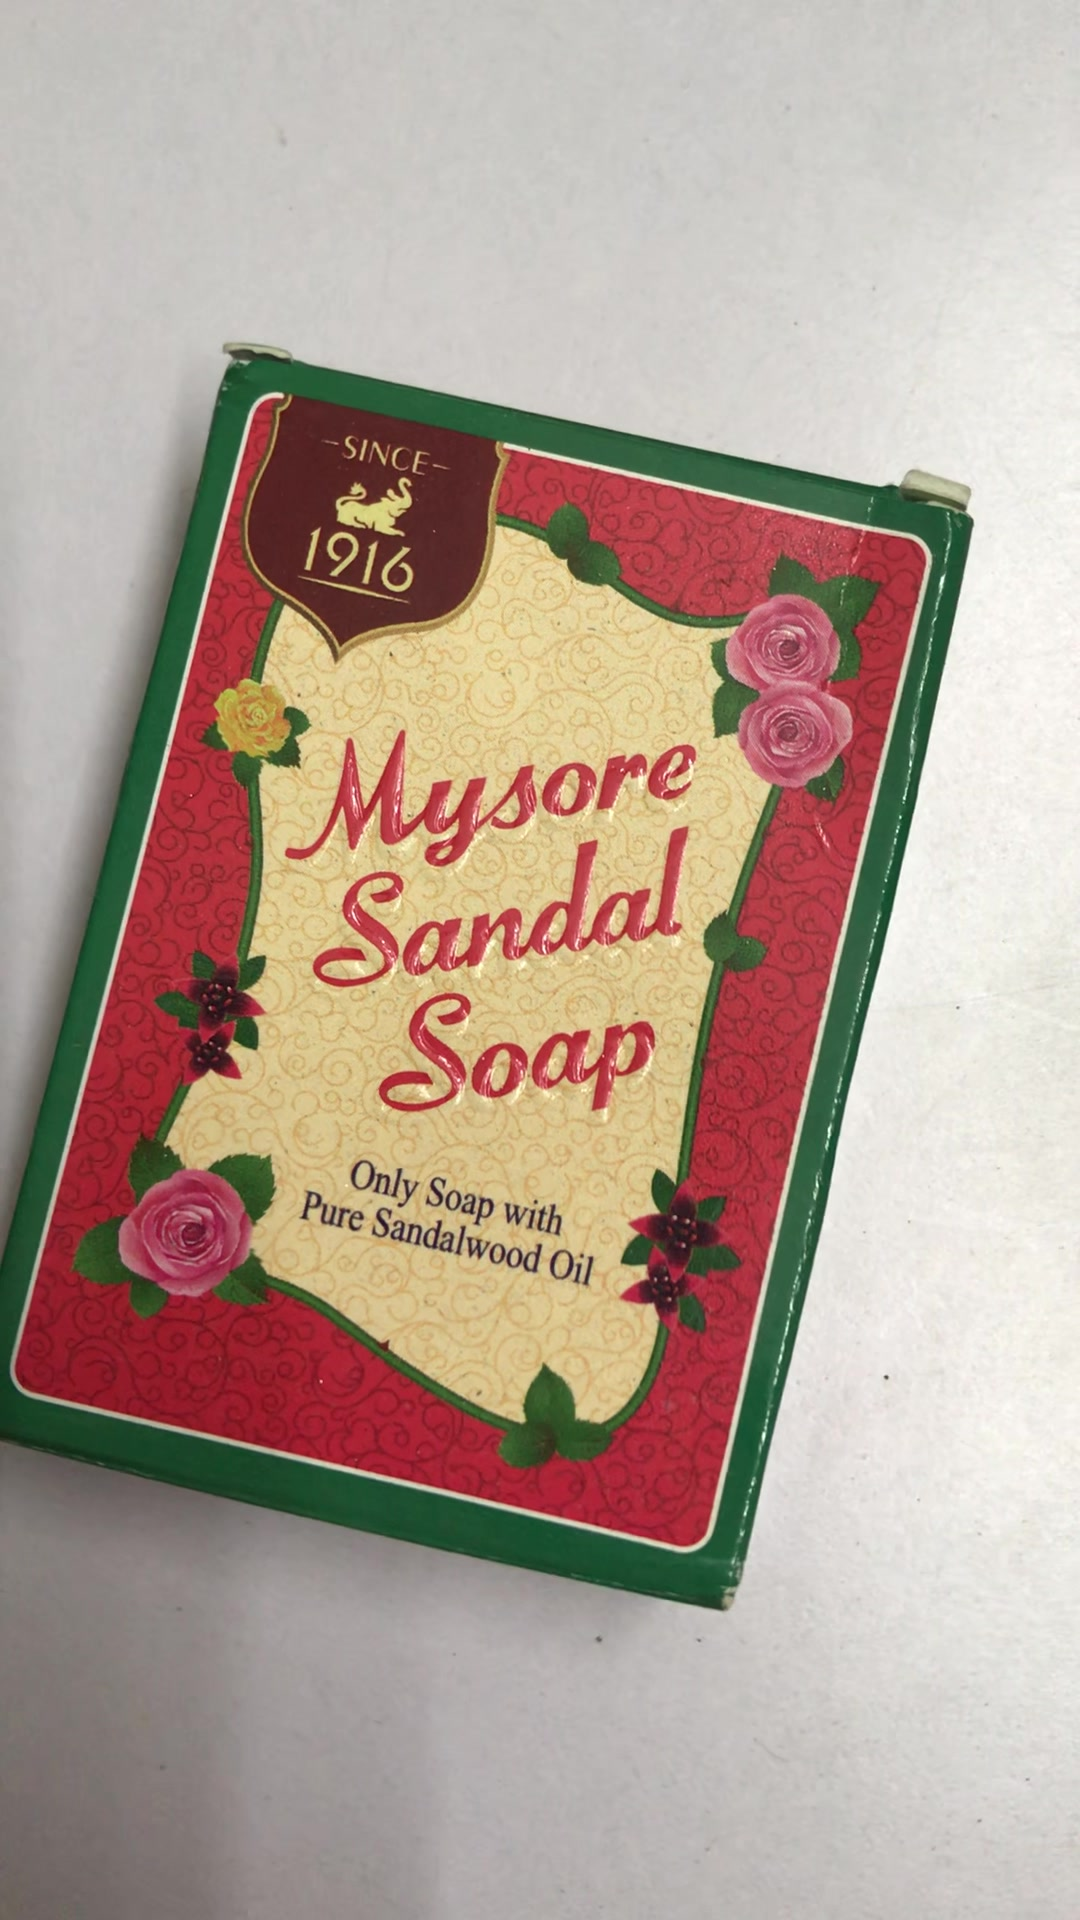mysore sandal soap: (1, 349, 982, 1606)
